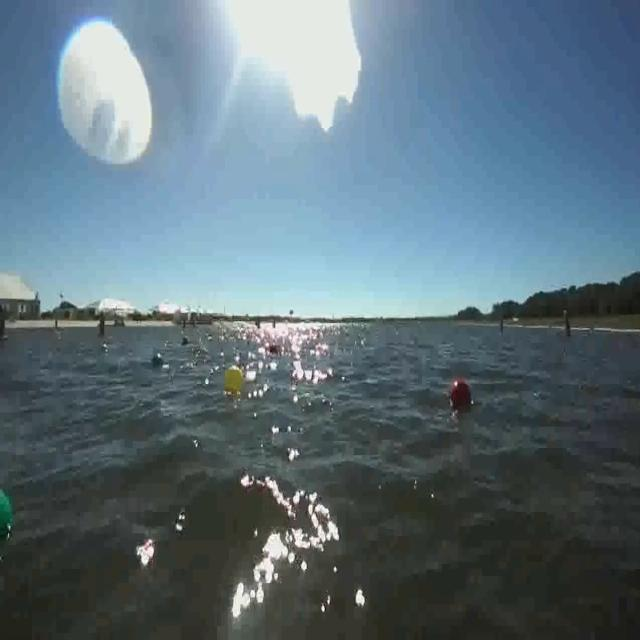green-buoy: (0, 488, 14, 542)
red-buoy: (450, 378, 470, 404)
yellow-buoy: (224, 362, 244, 393)
